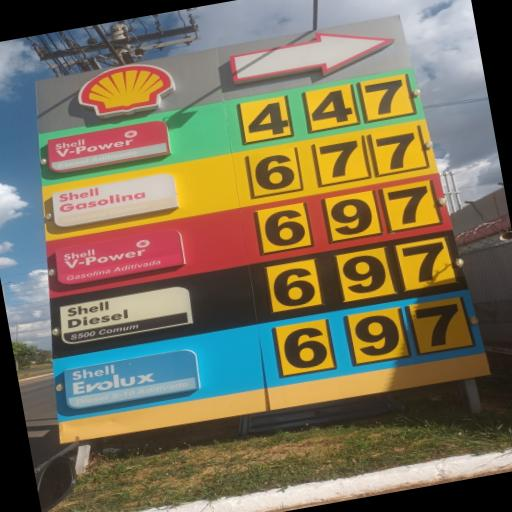GASOLINA AD: (48, 225, 194, 289), (47, 117, 173, 174)
GASOLINA C: (50, 168, 187, 231)
S10: (65, 348, 208, 413)
S500: (61, 275, 204, 347)
placa: (45, 68, 489, 422)
preco: (261, 233, 463, 320), (267, 293, 478, 373), (251, 176, 447, 257), (241, 123, 433, 200), (236, 71, 419, 147)
